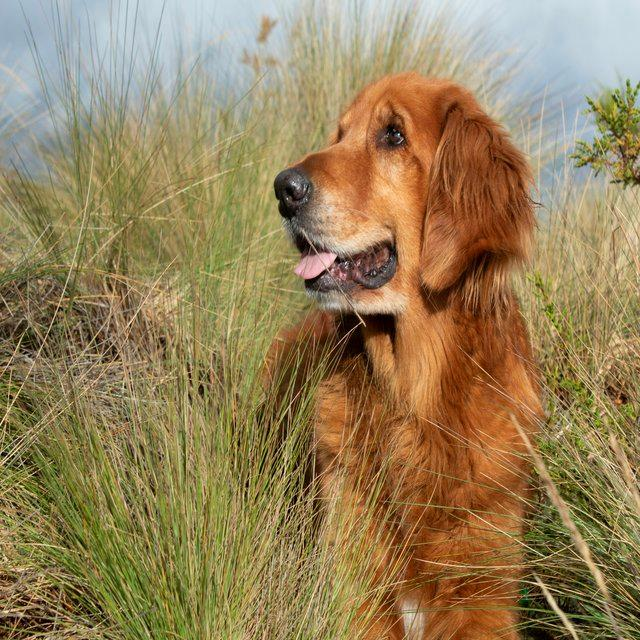retriever: (248, 69, 548, 638)
